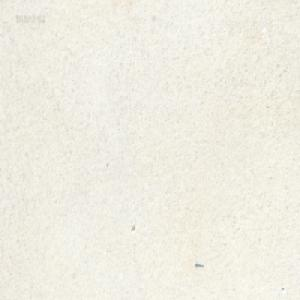Nail: (194, 260, 203, 267)
